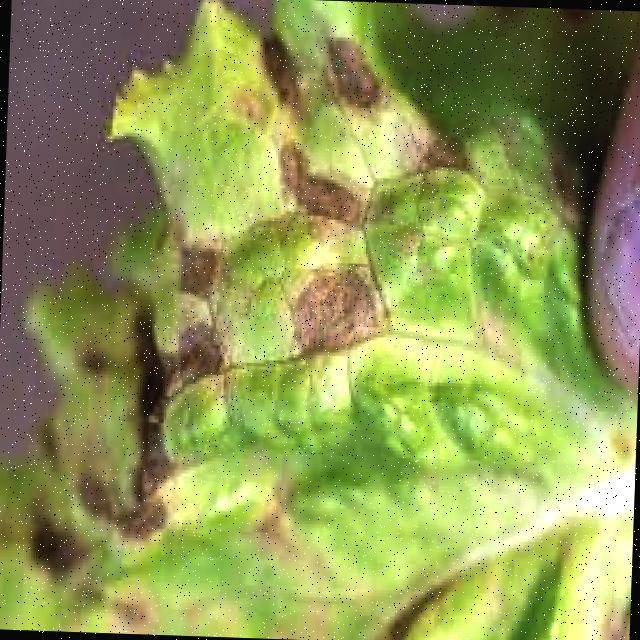Septoria_Blight: (88, 28, 574, 599)
